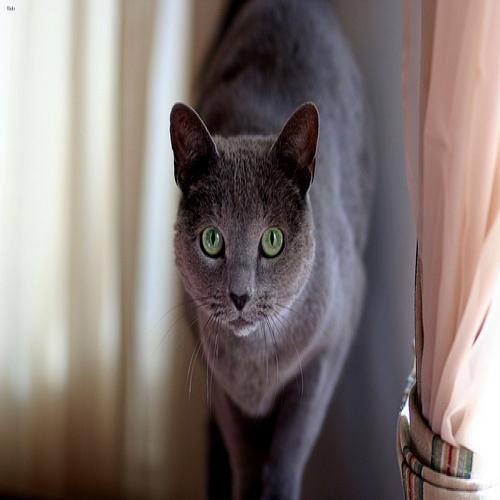rblue: (161, 97, 327, 347)
